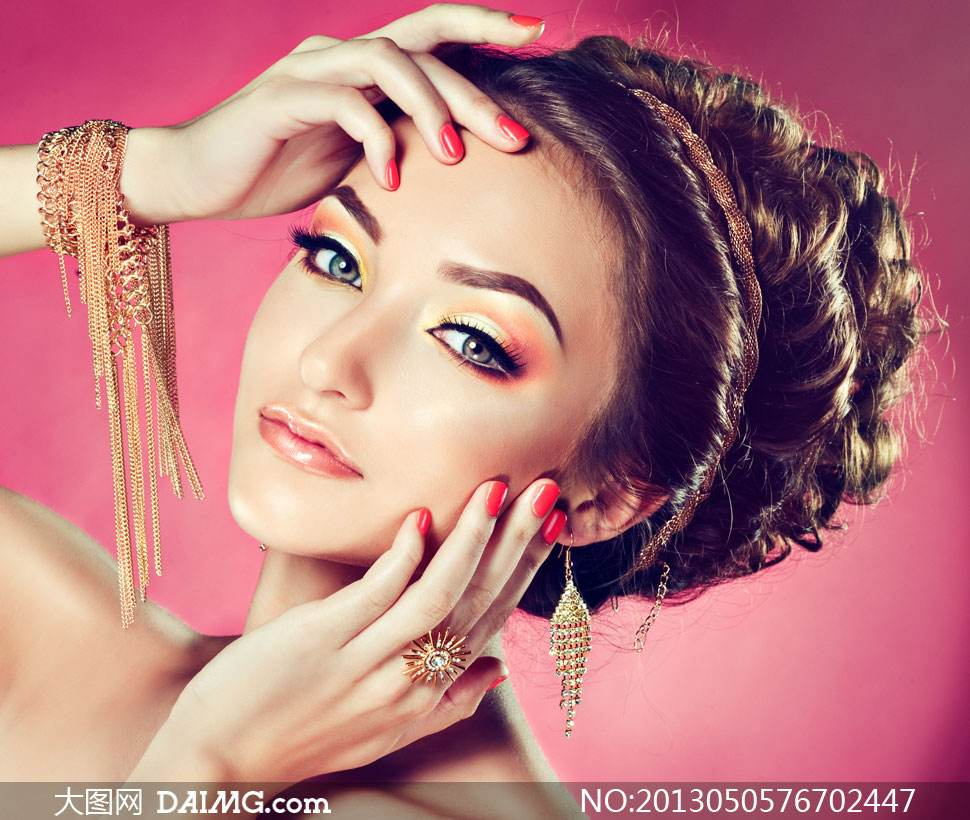person: (262, 24, 837, 703)
